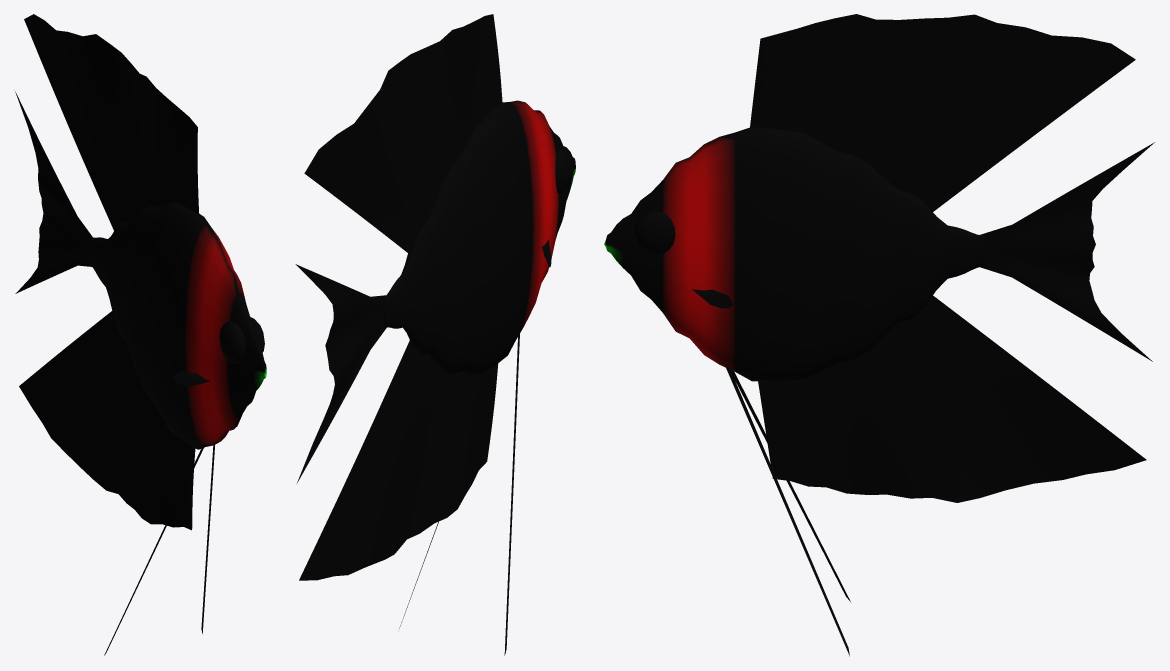
The model's file is angelfish.glb.
The picture shows the model from 3 angles, left to right: view 1: azimuth 30°, elevation 25°; view 2: azimuth 150°, elevation 25°; view 3: azimuth 270°, elevation 25°; orthographic projection. The views are drawn at different scales.
Parts seen in each view (by area): view 1: angel_body, angel_anal, angel_dorsal, angel_caudal, angel_eyeL, angel_pelvicL, angel_pelvicR, angel_pectoralL; view 2: angel_body, angel_anal, angel_dorsal, angel_caudal, angel_pelvicL, angel_eyeL; view 3: angel_body, angel_anal, angel_dorsal, angel_caudal, angel_eyeR, angel_pelvicR.
Part boxes in pixels (x1,y1,x2,y2): angel_body: (88,202,266,449); angel_anal: (19,311,195,530); angel_dorsal: (24,14,199,230); angel_caudal: (15,91,92,293); angel_eyeL: (219,321,246,363); angel_pelvicL: (104,444,205,655); angel_pelvicR: (201,445,214,634); angel_pectoralL: (173,371,210,386); angel_body: (384,100,575,376); angel_anal: (299,339,498,580); angel_dorsal: (304,14,502,254); angel_caudal: (295,264,386,482); angel_pelvicL: (504,334,519,655); angel_eyeL: (555,148,573,194); angel_body: (604,127,985,381); angel_anal: (758,295,1146,502); angel_dorsal: (750,14,1135,211); angel_caudal: (980,142,1154,361); angel_eyeR: (634,211,675,254); angel_pelvicR: (725,366,849,656).
Bounding box in the file's own units: 0.3238 × 1.79 × 1.45.
